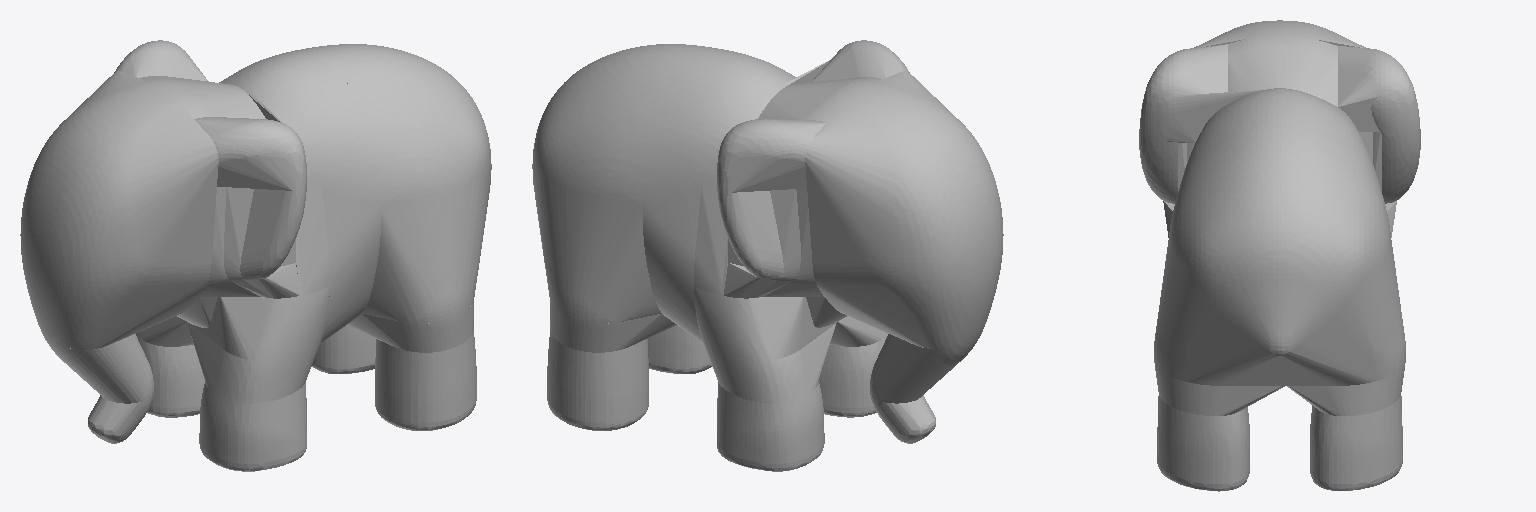
URDF robot description (root):
<robot name="root">
  <link name="object">
    <visual>
      <origin xyz="0 0 0" rpy="0 0 0"/>
      <geometry>
        <mesh filename="coacd_convex_piece_0.obj" scale="1.0000E+00 1.0000E+00 1.0000E+00"/>
      </geometry>
      <material name="">
        <color rgba="7.50E-01 7.50E-01 7.50E-01 1"/>
      </material>
    </visual>
    <collision>
      <origin xyz="0 0 0" rpy="0 0 0"/>
      <geometry>
        <mesh filename="coacd_convex_piece_0.obj" scale="1.0000E+00 1.0000E+00 1.0000E+00"/>
      </geometry>
    </collision>
    <visual>
      <origin xyz="0 0 0" rpy="0 0 0"/>
      <geometry>
        <mesh filename="coacd_convex_piece_1.obj" scale="1.0000E+00 1.0000E+00 1.0000E+00"/>
      </geometry>
      <material name="">
        <color rgba="7.50E-01 7.50E-01 7.50E-01 1"/>
      </material>
    </visual>
    <collision>
      <origin xyz="0 0 0" rpy="0 0 0"/>
      <geometry>
        <mesh filename="coacd_convex_piece_1.obj" scale="1.0000E+00 1.0000E+00 1.0000E+00"/>
      </geometry>
    </collision>
    <visual>
      <origin xyz="0 0 0" rpy="0 0 0"/>
      <geometry>
        <mesh filename="coacd_convex_piece_2.obj" scale="1.0000E+00 1.0000E+00 1.0000E+00"/>
      </geometry>
      <material name="">
        <color rgba="7.50E-01 7.50E-01 7.50E-01 1"/>
      </material>
    </visual>
    <collision>
      <origin xyz="0 0 0" rpy="0 0 0"/>
      <geometry>
        <mesh filename="coacd_convex_piece_2.obj" scale="1.0000E+00 1.0000E+00 1.0000E+00"/>
      </geometry>
    </collision>
    <visual>
      <origin xyz="0 0 0" rpy="0 0 0"/>
      <geometry>
        <mesh filename="coacd_convex_piece_3.obj" scale="1.0000E+00 1.0000E+00 1.0000E+00"/>
      </geometry>
      <material name="">
        <color rgba="7.50E-01 7.50E-01 7.50E-01 1"/>
      </material>
    </visual>
    <collision>
      <origin xyz="0 0 0" rpy="0 0 0"/>
      <geometry>
        <mesh filename="coacd_convex_piece_3.obj" scale="1.0000E+00 1.0000E+00 1.0000E+00"/>
      </geometry>
    </collision>
    <visual>
      <origin xyz="0 0 0" rpy="0 0 0"/>
      <geometry>
        <mesh filename="coacd_convex_piece_4.obj" scale="1.0000E+00 1.0000E+00 1.0000E+00"/>
      </geometry>
      <material name="">
        <color rgba="7.50E-01 7.50E-01 7.50E-01 1"/>
      </material>
    </visual>
    <collision>
      <origin xyz="0 0 0" rpy="0 0 0"/>
      <geometry>
        <mesh filename="coacd_convex_piece_4.obj" scale="1.0000E+00 1.0000E+00 1.0000E+00"/>
      </geometry>
    </collision>
    <visual>
      <origin xyz="0 0 0" rpy="0 0 0"/>
      <geometry>
        <mesh filename="coacd_convex_piece_5.obj" scale="1.0000E+00 1.0000E+00 1.0000E+00"/>
      </geometry>
      <material name="">
        <color rgba="7.50E-01 7.50E-01 7.50E-01 1"/>
      </material>
    </visual>
    <collision>
      <origin xyz="0 0 0" rpy="0 0 0"/>
      <geometry>
        <mesh filename="coacd_convex_piece_5.obj" scale="1.0000E+00 1.0000E+00 1.0000E+00"/>
      </geometry>
    </collision>
    <visual>
      <origin xyz="0 0 0" rpy="0 0 0"/>
      <geometry>
        <mesh filename="coacd_convex_piece_6.obj" scale="1.0000E+00 1.0000E+00 1.0000E+00"/>
      </geometry>
      <material name="">
        <color rgba="7.50E-01 7.50E-01 7.50E-01 1"/>
      </material>
    </visual>
    <collision>
      <origin xyz="0 0 0" rpy="0 0 0"/>
      <geometry>
        <mesh filename="coacd_convex_piece_6.obj" scale="1.0000E+00 1.0000E+00 1.0000E+00"/>
      </geometry>
    </collision>
    <visual>
      <origin xyz="0 0 0" rpy="0 0 0"/>
      <geometry>
        <mesh filename="coacd_convex_piece_7.obj" scale="1.0000E+00 1.0000E+00 1.0000E+00"/>
      </geometry>
      <material name="">
        <color rgba="7.50E-01 7.50E-01 7.50E-01 1"/>
      </material>
    </visual>
    <collision>
      <origin xyz="0 0 0" rpy="0 0 0"/>
      <geometry>
        <mesh filename="coacd_convex_piece_7.obj" scale="1.0000E+00 1.0000E+00 1.0000E+00"/>
      </geometry>
    </collision>
    <visual>
      <origin xyz="0 0 0" rpy="0 0 0"/>
      <geometry>
        <mesh filename="coacd_convex_piece_8.obj" scale="1.0000E+00 1.0000E+00 1.0000E+00"/>
      </geometry>
      <material name="">
        <color rgba="7.50E-01 7.50E-01 7.50E-01 1"/>
      </material>
    </visual>
    <collision>
      <origin xyz="0 0 0" rpy="0 0 0"/>
      <geometry>
        <mesh filename="coacd_convex_piece_8.obj" scale="1.0000E+00 1.0000E+00 1.0000E+00"/>
      </geometry>
    </collision>
    <visual>
      <origin xyz="0 0 0" rpy="0 0 0"/>
      <geometry>
        <mesh filename="coacd_convex_piece_9.obj" scale="1.0000E+00 1.0000E+00 1.0000E+00"/>
      </geometry>
      <material name="">
        <color rgba="7.50E-01 7.50E-01 7.50E-01 1"/>
      </material>
    </visual>
    <collision>
      <origin xyz="0 0 0" rpy="0 0 0"/>
      <geometry>
        <mesh filename="coacd_convex_piece_9.obj" scale="1.0000E+00 1.0000E+00 1.0000E+00"/>
      </geometry>
    </collision>
    <visual>
      <origin xyz="0 0 0" rpy="0 0 0"/>
      <geometry>
        <mesh filename="coacd_convex_piece_10.obj" scale="1.0000E+00 1.0000E+00 1.0000E+00"/>
      </geometry>
      <material name="">
        <color rgba="7.50E-01 7.50E-01 7.50E-01 1"/>
      </material>
    </visual>
    <collision>
      <origin xyz="0 0 0" rpy="0 0 0"/>
      <geometry>
        <mesh filename="coacd_convex_piece_10.obj" scale="1.0000E+00 1.0000E+00 1.0000E+00"/>
      </geometry>
    </collision>
    <visual>
      <origin xyz="0 0 0" rpy="0 0 0"/>
      <geometry>
        <mesh filename="coacd_convex_piece_11.obj" scale="1.0000E+00 1.0000E+00 1.0000E+00"/>
      </geometry>
      <material name="">
        <color rgba="7.50E-01 7.50E-01 7.50E-01 1"/>
      </material>
    </visual>
    <collision>
      <origin xyz="0 0 0" rpy="0 0 0"/>
      <geometry>
        <mesh filename="coacd_convex_piece_11.obj" scale="1.0000E+00 1.0000E+00 1.0000E+00"/>
      </geometry>
    </collision>
    <visual>
      <origin xyz="0 0 0" rpy="0 0 0"/>
      <geometry>
        <mesh filename="coacd_convex_piece_12.obj" scale="1.0000E+00 1.0000E+00 1.0000E+00"/>
      </geometry>
      <material name="">
        <color rgba="7.50E-01 7.50E-01 7.50E-01 1"/>
      </material>
    </visual>
    <collision>
      <origin xyz="0 0 0" rpy="0 0 0"/>
      <geometry>
        <mesh filename="coacd_convex_piece_12.obj" scale="1.0000E+00 1.0000E+00 1.0000E+00"/>
      </geometry>
    </collision>
    <visual>
      <origin xyz="0 0 0" rpy="0 0 0"/>
      <geometry>
        <mesh filename="coacd_convex_piece_13.obj" scale="1.0000E+00 1.0000E+00 1.0000E+00"/>
      </geometry>
      <material name="">
        <color rgba="7.50E-01 7.50E-01 7.50E-01 1"/>
      </material>
    </visual>
    <collision>
      <origin xyz="0 0 0" rpy="0 0 0"/>
      <geometry>
        <mesh filename="coacd_convex_piece_13.obj" scale="1.0000E+00 1.0000E+00 1.0000E+00"/>
      </geometry>
    </collision>
    <visual>
      <origin xyz="0 0 0" rpy="0 0 0"/>
      <geometry>
        <mesh filename="coacd_convex_piece_14.obj" scale="1.0000E+00 1.0000E+00 1.0000E+00"/>
      </geometry>
      <material name="">
        <color rgba="7.50E-01 7.50E-01 7.50E-01 1"/>
      </material>
    </visual>
    <collision>
      <origin xyz="0 0 0" rpy="0 0 0"/>
      <geometry>
        <mesh filename="coacd_convex_piece_14.obj" scale="1.0000E+00 1.0000E+00 1.0000E+00"/>
      </geometry>
    </collision>
    <visual>
      <origin xyz="0 0 0" rpy="0 0 0"/>
      <geometry>
        <mesh filename="coacd_convex_piece_15.obj" scale="1.0000E+00 1.0000E+00 1.0000E+00"/>
      </geometry>
      <material name="">
        <color rgba="7.50E-01 7.50E-01 7.50E-01 1"/>
      </material>
    </visual>
    <collision>
      <origin xyz="0 0 0" rpy="0 0 0"/>
      <geometry>
        <mesh filename="coacd_convex_piece_15.obj" scale="1.0000E+00 1.0000E+00 1.0000E+00"/>
      </geometry>
    </collision>
    <visual>
      <origin xyz="0 0 0" rpy="0 0 0"/>
      <geometry>
        <mesh filename="coacd_convex_piece_16.obj" scale="1.0000E+00 1.0000E+00 1.0000E+00"/>
      </geometry>
      <material name="">
        <color rgba="7.50E-01 7.50E-01 7.50E-01 1"/>
      </material>
    </visual>
    <collision>
      <origin xyz="0 0 0" rpy="0 0 0"/>
      <geometry>
        <mesh filename="coacd_convex_piece_16.obj" scale="1.0000E+00 1.0000E+00 1.0000E+00"/>
      </geometry>
    </collision>
    <visual>
      <origin xyz="0 0 0" rpy="0 0 0"/>
      <geometry>
        <mesh filename="coacd_convex_piece_17.obj" scale="1.0000E+00 1.0000E+00 1.0000E+00"/>
      </geometry>
      <material name="">
        <color rgba="7.50E-01 7.50E-01 7.50E-01 1"/>
      </material>
    </visual>
    <collision>
      <origin xyz="0 0 0" rpy="0 0 0"/>
      <geometry>
        <mesh filename="coacd_convex_piece_17.obj" scale="1.0000E+00 1.0000E+00 1.0000E+00"/>
      </geometry>
    </collision>
    <visual>
      <origin xyz="0 0 0" rpy="0 0 0"/>
      <geometry>
        <mesh filename="coacd_convex_piece_18.obj" scale="1.0000E+00 1.0000E+00 1.0000E+00"/>
      </geometry>
      <material name="">
        <color rgba="7.50E-01 7.50E-01 7.50E-01 1"/>
      </material>
    </visual>
    <collision>
      <origin xyz="0 0 0" rpy="0 0 0"/>
      <geometry>
        <mesh filename="coacd_convex_piece_18.obj" scale="1.0000E+00 1.0000E+00 1.0000E+00"/>
      </geometry>
    </collision>
    <visual>
      <origin xyz="0 0 0" rpy="0 0 0"/>
      <geometry>
        <mesh filename="coacd_convex_piece_19.obj" scale="1.0000E+00 1.0000E+00 1.0000E+00"/>
      </geometry>
      <material name="">
        <color rgba="7.50E-01 7.50E-01 7.50E-01 1"/>
      </material>
    </visual>
    <collision>
      <origin xyz="0 0 0" rpy="0 0 0"/>
      <geometry>
        <mesh filename="coacd_convex_piece_19.obj" scale="1.0000E+00 1.0000E+00 1.0000E+00"/>
      </geometry>
    </collision>
    <visual>
      <origin xyz="0 0 0" rpy="0 0 0"/>
      <geometry>
        <mesh filename="coacd_convex_piece_20.obj" scale="1.0000E+00 1.0000E+00 1.0000E+00"/>
      </geometry>
      <material name="">
        <color rgba="7.50E-01 7.50E-01 7.50E-01 1"/>
      </material>
    </visual>
    <collision>
      <origin xyz="0 0 0" rpy="0 0 0"/>
      <geometry>
        <mesh filename="coacd_convex_piece_20.obj" scale="1.0000E+00 1.0000E+00 1.0000E+00"/>
      </geometry>
    </collision>
    <visual>
      <origin xyz="0 0 0" rpy="0 0 0"/>
      <geometry>
        <mesh filename="coacd_convex_piece_21.obj" scale="1.0000E+00 1.0000E+00 1.0000E+00"/>
      </geometry>
      <material name="">
        <color rgba="7.50E-01 7.50E-01 7.50E-01 1"/>
      </material>
    </visual>
    <collision>
      <origin xyz="0 0 0" rpy="0 0 0"/>
      <geometry>
        <mesh filename="coacd_convex_piece_21.obj" scale="1.0000E+00 1.0000E+00 1.0000E+00"/>
      </geometry>
    </collision>
    <visual>
      <origin xyz="0 0 0" rpy="0 0 0"/>
      <geometry>
        <mesh filename="coacd_convex_piece_22.obj" scale="1.0000E+00 1.0000E+00 1.0000E+00"/>
      </geometry>
      <material name="">
        <color rgba="7.50E-01 7.50E-01 7.50E-01 1"/>
      </material>
    </visual>
    <collision>
      <origin xyz="0 0 0" rpy="0 0 0"/>
      <geometry>
        <mesh filename="coacd_convex_piece_22.obj" scale="1.0000E+00 1.0000E+00 1.0000E+00"/>
      </geometry>
    </collision>
    <visual>
      <origin xyz="0 0 0" rpy="0 0 0"/>
      <geometry>
        <mesh filename="coacd_convex_piece_23.obj" scale="1.0000E+00 1.0000E+00 1.0000E+00"/>
      </geometry>
      <material name="">
        <color rgba="7.50E-01 7.50E-01 7.50E-01 1"/>
      </material>
    </visual>
    <collision>
      <origin xyz="0 0 0" rpy="0 0 0"/>
      <geometry>
        <mesh filename="coacd_convex_piece_23.obj" scale="1.0000E+00 1.0000E+00 1.0000E+00"/>
      </geometry>
    </collision>
    <visual>
      <origin xyz="0 0 0" rpy="0 0 0"/>
      <geometry>
        <mesh filename="coacd_convex_piece_24.obj" scale="1.0000E+00 1.0000E+00 1.0000E+00"/>
      </geometry>
      <material name="">
        <color rgba="7.50E-01 7.50E-01 7.50E-01 1"/>
      </material>
    </visual>
    <collision>
      <origin xyz="0 0 0" rpy="0 0 0"/>
      <geometry>
        <mesh filename="coacd_convex_piece_24.obj" scale="1.0000E+00 1.0000E+00 1.0000E+00"/>
      </geometry>
    </collision>
    <visual>
      <origin xyz="0 0 0" rpy="0 0 0"/>
      <geometry>
        <mesh filename="coacd_convex_piece_25.obj" scale="1.0000E+00 1.0000E+00 1.0000E+00"/>
      </geometry>
      <material name="">
        <color rgba="7.50E-01 7.50E-01 7.50E-01 1"/>
      </material>
    </visual>
    <collision>
      <origin xyz="0 0 0" rpy="0 0 0"/>
      <geometry>
        <mesh filename="coacd_convex_piece_25.obj" scale="1.0000E+00 1.0000E+00 1.0000E+00"/>
      </geometry>
    </collision>
    <visual>
      <origin xyz="0 0 0" rpy="0 0 0"/>
      <geometry>
        <mesh filename="coacd_convex_piece_26.obj" scale="1.0000E+00 1.0000E+00 1.0000E+00"/>
      </geometry>
      <material name="">
        <color rgba="7.50E-01 7.50E-01 7.50E-01 1"/>
      </material>
    </visual>
    <collision>
      <origin xyz="0 0 0" rpy="0 0 0"/>
      <geometry>
        <mesh filename="coacd_convex_piece_26.obj" scale="1.0000E+00 1.0000E+00 1.0000E+00"/>
      </geometry>
    </collision>
    <visual>
      <origin xyz="0 0 0" rpy="0 0 0"/>
      <geometry>
        <mesh filename="coacd_convex_piece_27.obj" scale="1.0000E+00 1.0000E+00 1.0000E+00"/>
      </geometry>
      <material name="">
        <color rgba="7.50E-01 7.50E-01 7.50E-01 1"/>
      </material>
    </visual>
    <collision>
      <origin xyz="0 0 0" rpy="0 0 0"/>
      <geometry>
        <mesh filename="coacd_convex_piece_27.obj" scale="1.0000E+00 1.0000E+00 1.0000E+00"/>
      </geometry>
    </collision>
    <visual>
      <origin xyz="0 0 0" rpy="0 0 0"/>
      <geometry>
        <mesh filename="coacd_convex_piece_28.obj" scale="1.0000E+00 1.0000E+00 1.0000E+00"/>
      </geometry>
      <material name="">
        <color rgba="7.50E-01 7.50E-01 7.50E-01 1"/>
      </material>
    </visual>
    <collision>
      <origin xyz="0 0 0" rpy="0 0 0"/>
      <geometry>
        <mesh filename="coacd_convex_piece_28.obj" scale="1.0000E+00 1.0000E+00 1.0000E+00"/>
      </geometry>
    </collision>
    <visual>
      <origin xyz="0 0 0" rpy="0 0 0"/>
      <geometry>
        <mesh filename="coacd_convex_piece_29.obj" scale="1.0000E+00 1.0000E+00 1.0000E+00"/>
      </geometry>
      <material name="">
        <color rgba="7.50E-01 7.50E-01 7.50E-01 1"/>
      </material>
    </visual>
    <collision>
      <origin xyz="0 0 0" rpy="0 0 0"/>
      <geometry>
        <mesh filename="coacd_convex_piece_29.obj" scale="1.0000E+00 1.0000E+00 1.0000E+00"/>
      </geometry>
    </collision>
  </link>
</robot>

--- Render facts (derived) ---
The picture shows the robot from 3 angles, left to right: view 1: azimuth 30°, elevation 25°; view 2: azimuth 150°, elevation 25°; view 3: azimuth 270°, elevation 25°; orthographic projection.
Model root with 1 links and 0 joints (none), rooted at object, posed every joint at zero.
Visible links, largest first — view 1: object; view 2: object; view 3: object.
Link boxes in pixels (<box>): object: <box>20,40,491,471</box>; object: <box>532,40,1003,471</box>; object: <box>1139,20,1420,491</box>.
Size in the robot's own frame: 0.1371 by 0.0776 by 0.1014 metres.
Meshes: 30 distinct files referenced, 30 mesh visuals loaded (30 OBJ).
